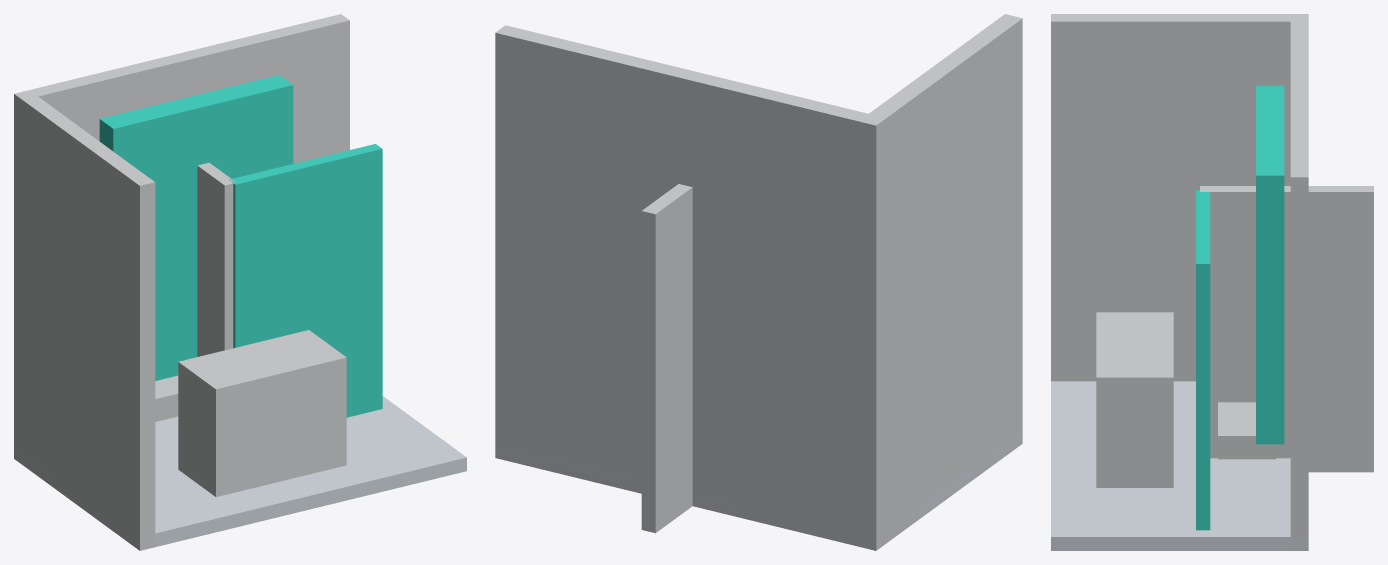
The picture shows the model from 3 angles, left to right: view 1: azimuth 30°, elevation 25°; view 2: azimuth 150°, elevation 25°; view 3: azimuth 270°, elevation 25°; orthographic projection. The views are drawn at different scales.
Visible parts, largest first — view 1: Exhibition Booth Concept; view 2: Exhibition Booth Concept; view 3: Exhibition Booth Concept.
Part boxes in pixels (bbox=[...]): Exhibition Booth Concept: bbox=[14, 14, 466, 550]; Exhibition Booth Concept: bbox=[495, 14, 1022, 550]; Exhibition Booth Concept: bbox=[1051, 14, 1373, 550].
Size of the model in its own units: 3 by 3.2 by 2.5.
